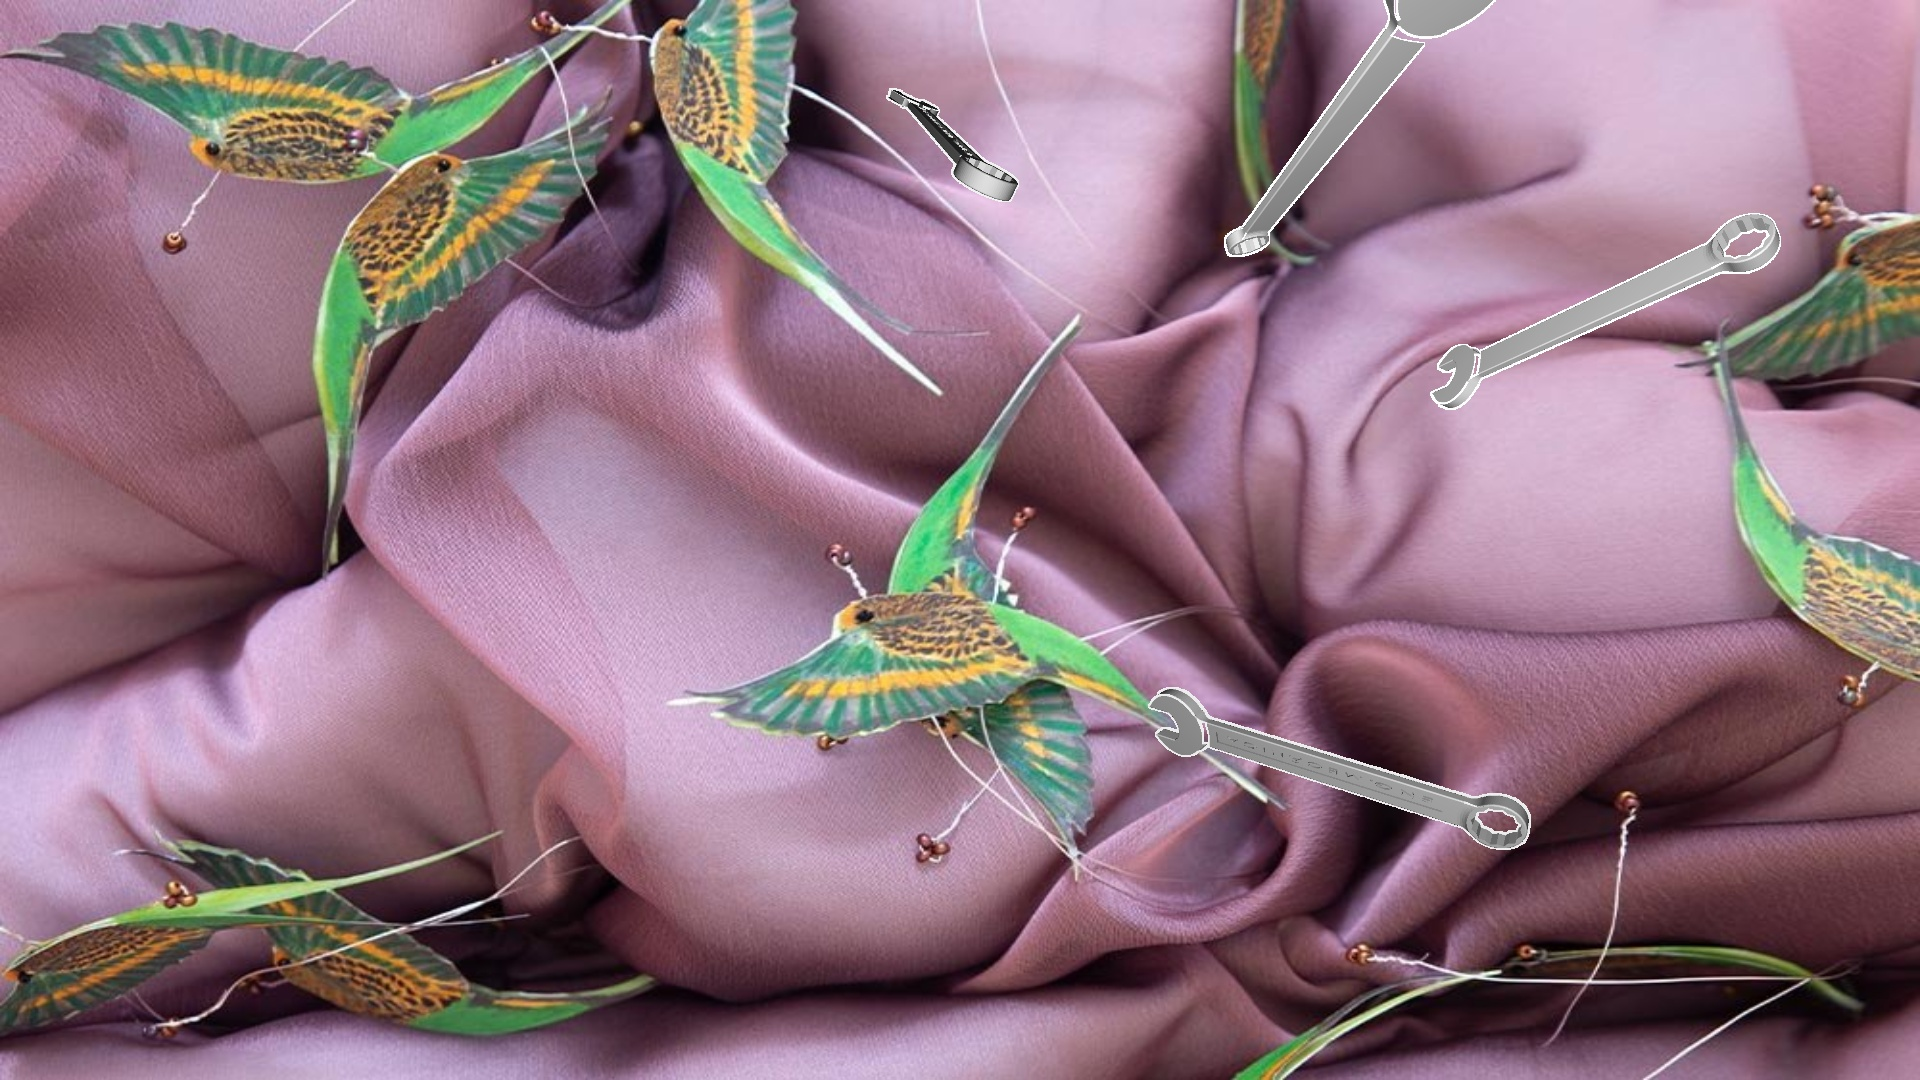Mixed Key: (1224, 0, 1495, 256), (1429, 214, 1780, 409), (1149, 687, 1530, 849), (886, 88, 1018, 200)
